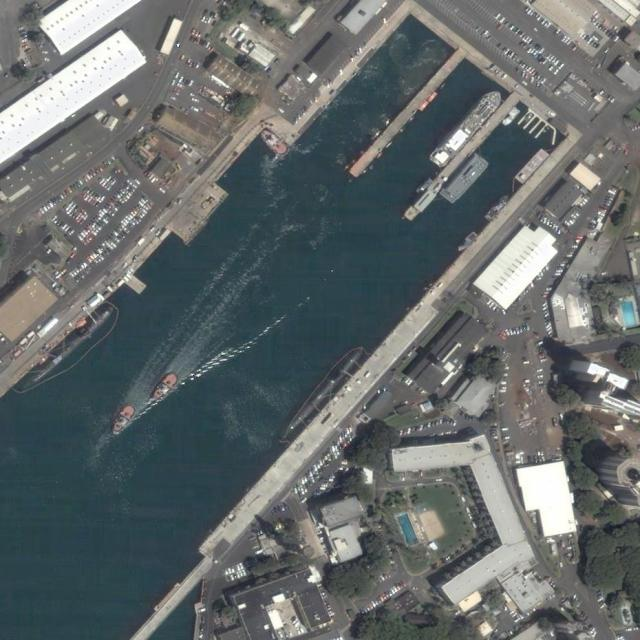Dock: (403, 87, 522, 221), (350, 47, 467, 179)
Hovercraft: (107, 401, 138, 436), (256, 127, 289, 156), (150, 371, 179, 401)
Other Ship: (427, 85, 506, 171), (440, 151, 491, 207), (483, 193, 512, 223), (455, 230, 478, 253)
Submarine: (281, 350, 364, 436), (30, 305, 114, 383)
